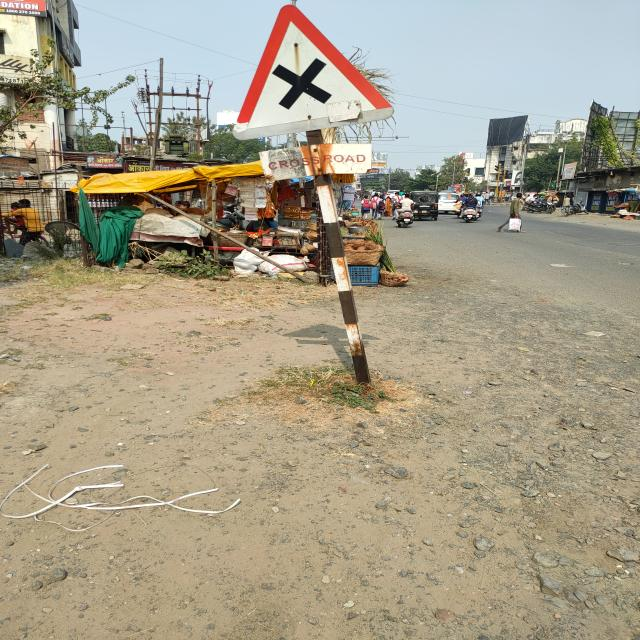cross_road: (231, 4, 394, 141)
